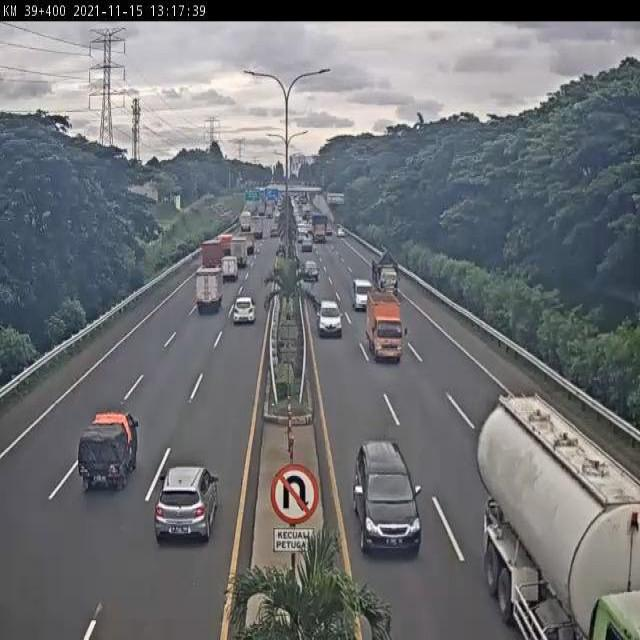car: (353, 438, 422, 558), (153, 465, 218, 543), (318, 298, 344, 338), (350, 276, 375, 315), (233, 293, 255, 324), (303, 260, 321, 284)
truck-l-: (475, 382, 640, 640)
truck-m-: (195, 268, 224, 311)
truck-s-: (77, 410, 139, 494), (366, 291, 405, 364), (371, 254, 399, 302), (223, 255, 239, 281)
